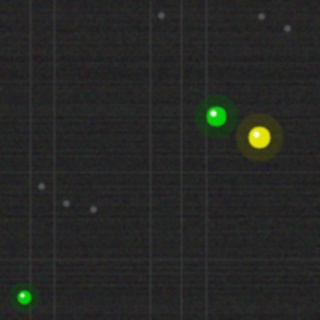green_normal: (204, 104, 228, 128), (15, 288, 33, 306)
yellow_warning: (246, 124, 272, 150)
